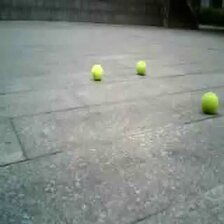tennis: (202, 91, 219, 113), (91, 64, 103, 80), (136, 61, 145, 73)
